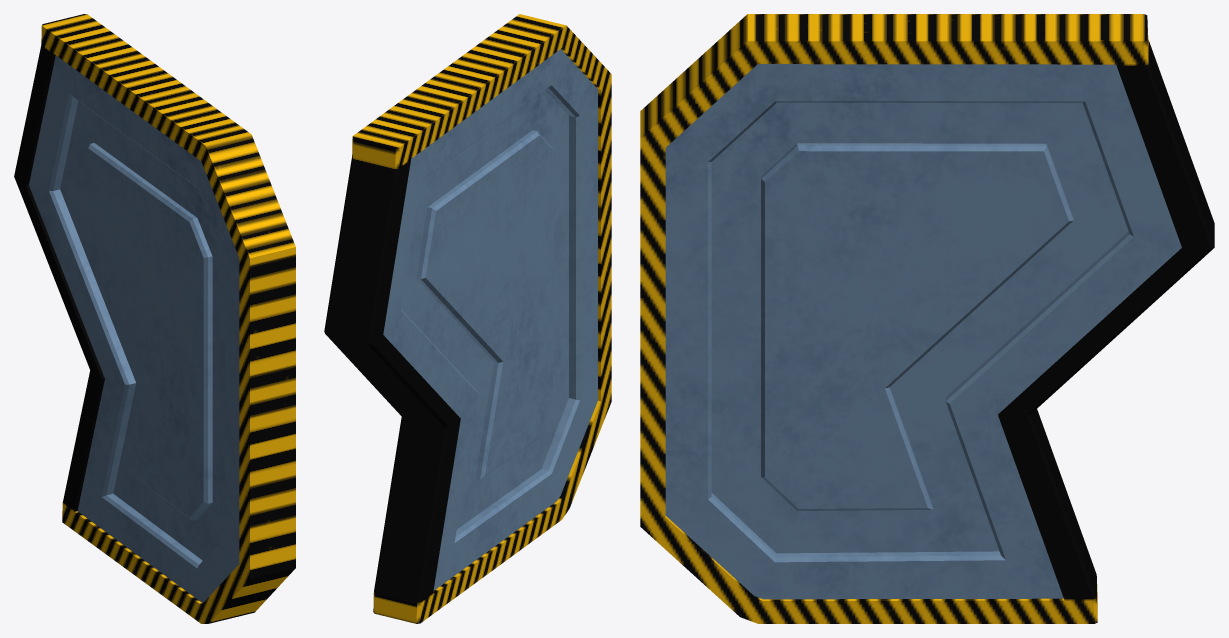
File: Hall - DoorRight - Texture.gltf
The picture shows the model from 3 angles, left to right: view 1: azimuth 30°, elevation 25°; view 2: azimuth 150°, elevation 25°; view 3: azimuth 270°, elevation 25°; orthographic projection. The views are drawn at different scales.
Visible parts, largest first — view 1: BlastDoor.001; view 2: BlastDoor.001; view 3: BlastDoor.001.
Part boxes in pixels (x1=…): BlastDoor.001: x1=14, y1=14, x2=295, y2=623; BlastDoor.001: x1=324, y1=14, x2=611, y2=623; BlastDoor.001: x1=640, y1=14, x2=1214, y2=623.
Size of the model in its own units: 0.2 by 2 by 1.79.
Materials: 1 (1 with a texture image).
